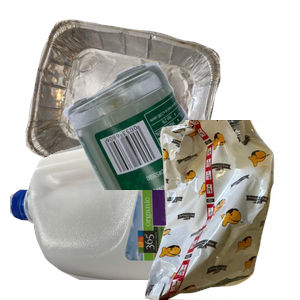glass: (60, 60, 300, 240)
metal: (23, 17, 236, 197)
plastic: (10, 120, 250, 300)
trash: (127, 120, 300, 300)
